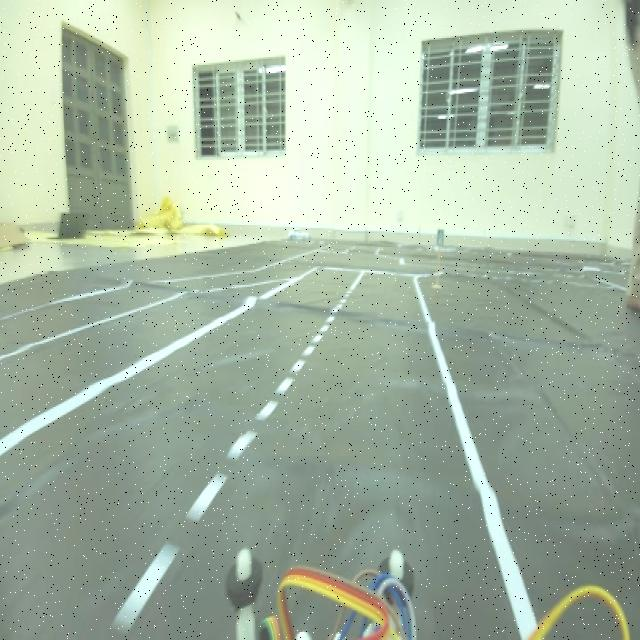highway_entry: (435, 223, 448, 251)
